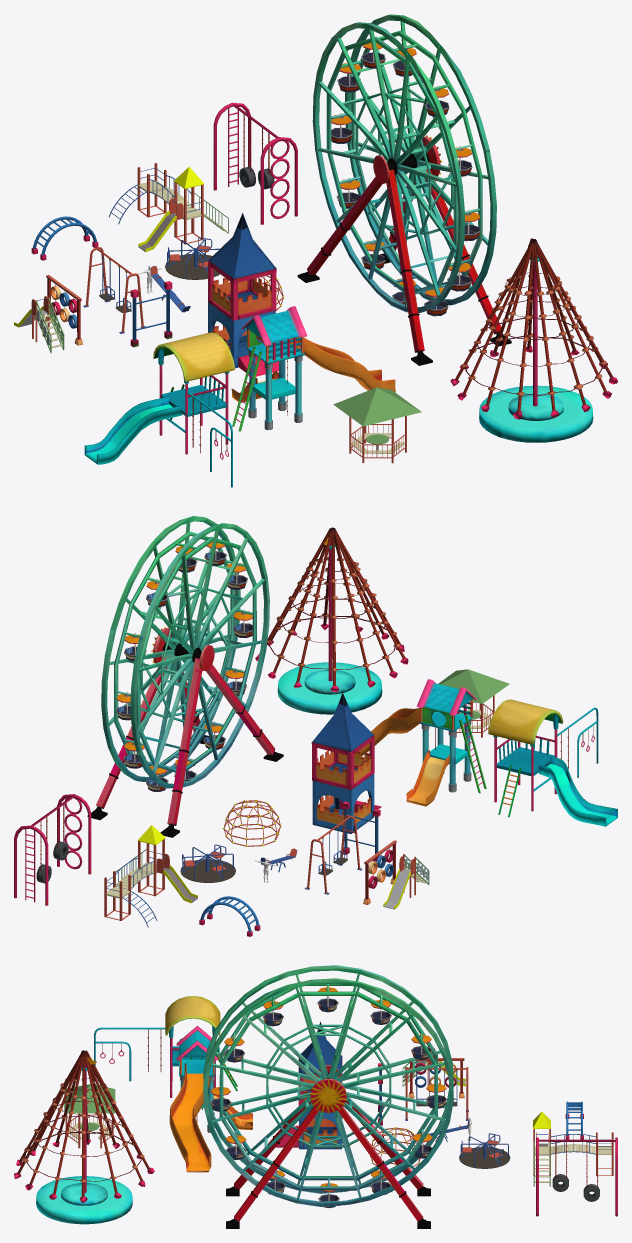
The model's file is play area props.fbx.
3 views of the same model, one above another, from view 1: azimuth 30°, elevation 25°; view 2: azimuth 150°, elevation 25°; view 3: azimuth 270°, elevation 25° (orthographic). The views are drawn at different scales.
Visible parts, largest first — view 1: ferri_Stand, Slid, Rotator_Ropes, Castle_Slide, PLay_Castle, Rotator, swings_4, swings_7, Tire_Swing, swings_5, swing_1, swings_3 (+3 smaller); view 2: ferri_Stand, Slid, PLay_Castle, Castle_Slide, Rotator_Ropes, Rotator, swings_4, Tire_Swing, swings_7, swings_5, swing_1, swings_3 (+3 smaller); view 3: ferri_Stand, Rotator_Ropes, Castle_Slide, Rotator, Slid, PLay_Castle, swings_4, Tire_Swing, swings_7, swings_5, tire_climber__1_, swings_3 (+3 smaller).
Boxes of the visible parts, x1,y1,x2,y2 form: ferri_Stand: [297, 14, 511, 365]; Slid: [84, 332, 234, 487]; Rotator_Ropes: [450, 238, 617, 419]; Castle_Slide: [231, 306, 395, 431]; PLay_Castle: [208, 213, 285, 376]; Rotator: [479, 245, 593, 442]; swings_4: [109, 163, 228, 252]; swings_7: [333, 387, 421, 463]; Tire_Swing: [213, 102, 297, 224]; swings_5: [165, 237, 219, 279]; swing_1: [14, 296, 64, 353]; swings_3: [83, 247, 145, 333]; ferri_Stand: [87, 516, 283, 837]; Slid: [488, 699, 617, 826]; PLay_Castle: [311, 691, 381, 833]; Castle_Slide: [354, 679, 486, 806]; Rotator_Ropes: [255, 527, 408, 692]; Rotator: [277, 537, 382, 714]; swings_4: [104, 825, 197, 927]; Tire_Swing: [14, 794, 91, 905]; swings_7: [438, 669, 509, 737]; swings_5: [180, 844, 235, 882]; swing_1: [383, 854, 429, 909]; swings_3: [304, 815, 362, 894]; ferri_Stand: [203, 965, 453, 1228]; Rotator_Ropes: [14, 1050, 154, 1202]; Castle_Slide: [169, 1026, 252, 1172]; Rotator: [36, 1057, 132, 1224]; Slid: [94, 996, 237, 1097]; PLay_Castle: [276, 1021, 342, 1149]; swings_4: [533, 1111, 613, 1186]; Tire_Swing: [536, 1137, 617, 1216]; swings_7: [64, 1084, 115, 1148]; swings_5: [459, 1133, 510, 1168]; tire_climber__1_: [408, 1058, 464, 1098]; swings_3: [405, 1067, 468, 1120].
Bounding box in the file's own units: 3188 × 1925 × 4410.
